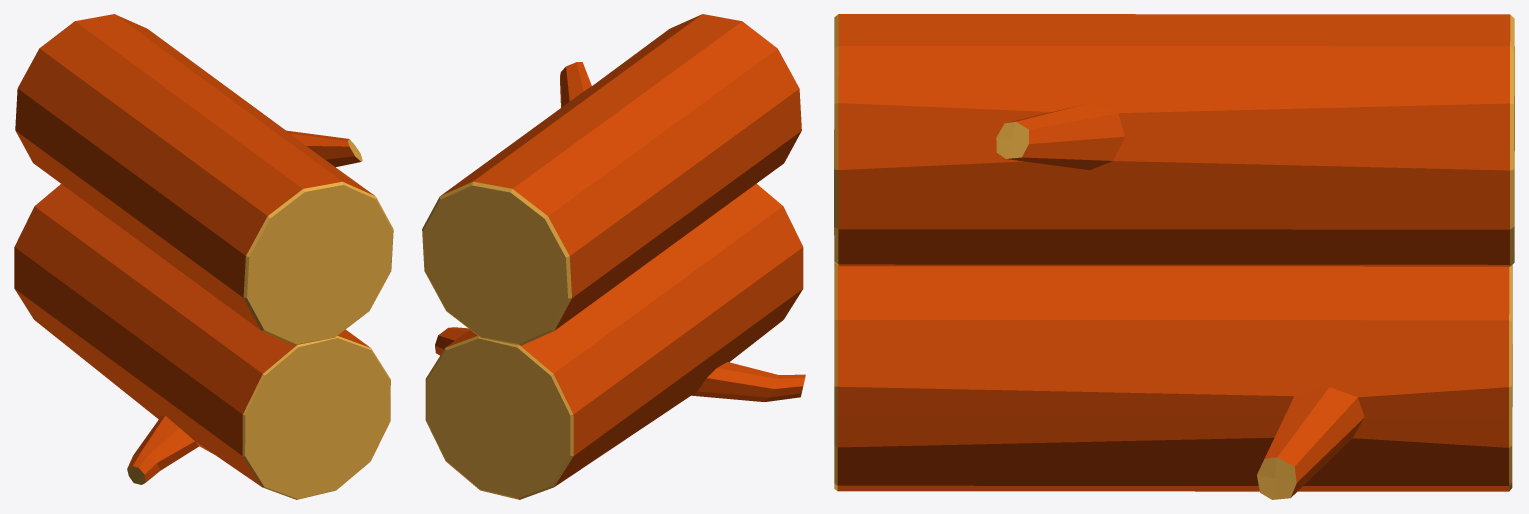
Rendered from stamm2.fbx.
The picture shows the model from 3 angles, left to right: view 1: azimuth 30°, elevation 25°; view 2: azimuth 150°, elevation 25°; view 3: azimuth 270°, elevation 25°; orthographic projection. The views are drawn at different scales.
Visible parts, largest first — view 1: stamm2; view 2: stamm2; view 3: stamm2.
Part boxes in pixels (left/top/right/bottom): stamm2: left=14, top=14, right=393, bottom=499; stamm2: left=422, top=14, right=805, bottom=499; stamm2: left=834, top=14, right=1514, bottom=499.
Size of the model in its own units: 338 by 227 by 248.
